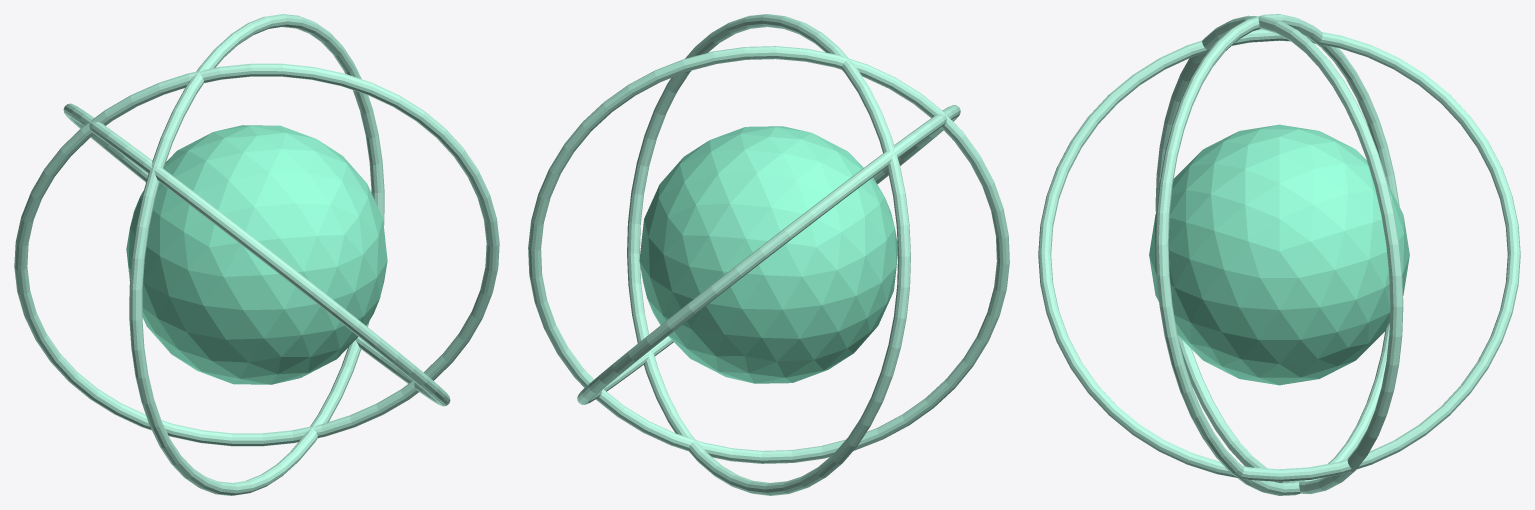
Rendered from quantum_dot.fbx.
3 views of the same model, side by side, from view 1: azimuth 30°, elevation 25°; view 2: azimuth 150°, elevation 25°; view 3: azimuth 270°, elevation 25° (orthographic).
Parts seen in each view (by area): view 1: Icosphere, Torus.002, Torus.003, Torus.001; view 2: Icosphere, Torus.003, Torus.002, Torus.001; view 3: Icosphere, Torus.001, Torus.002, Torus.003.
Boxes of the visible parts, x1,y1,x2,y2 form: Icosphere: (126,125,387,384); Torus.002: (14,63,499,446); Torus.003: (129,14,384,495); Torus.001: (63,103,450,406); Icosphere: (639,126,897,383); Torus.003: (528,46,1009,463); Torus.002: (627,14,910,495); Torus.001: (577,105,960,404); Icosphere: (1149,124,1409,385); Torus.001: (1038,29,1520,481); Torus.002: (1155,14,1399,495); Torus.003: (1155,15,1403,494).
Size of the model in its own units: 333 by 368 by 370.
